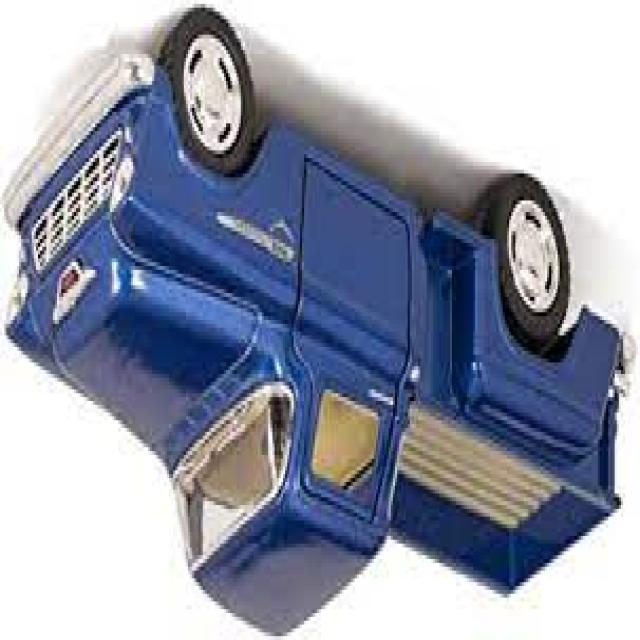Car: (2, 8, 633, 640)
